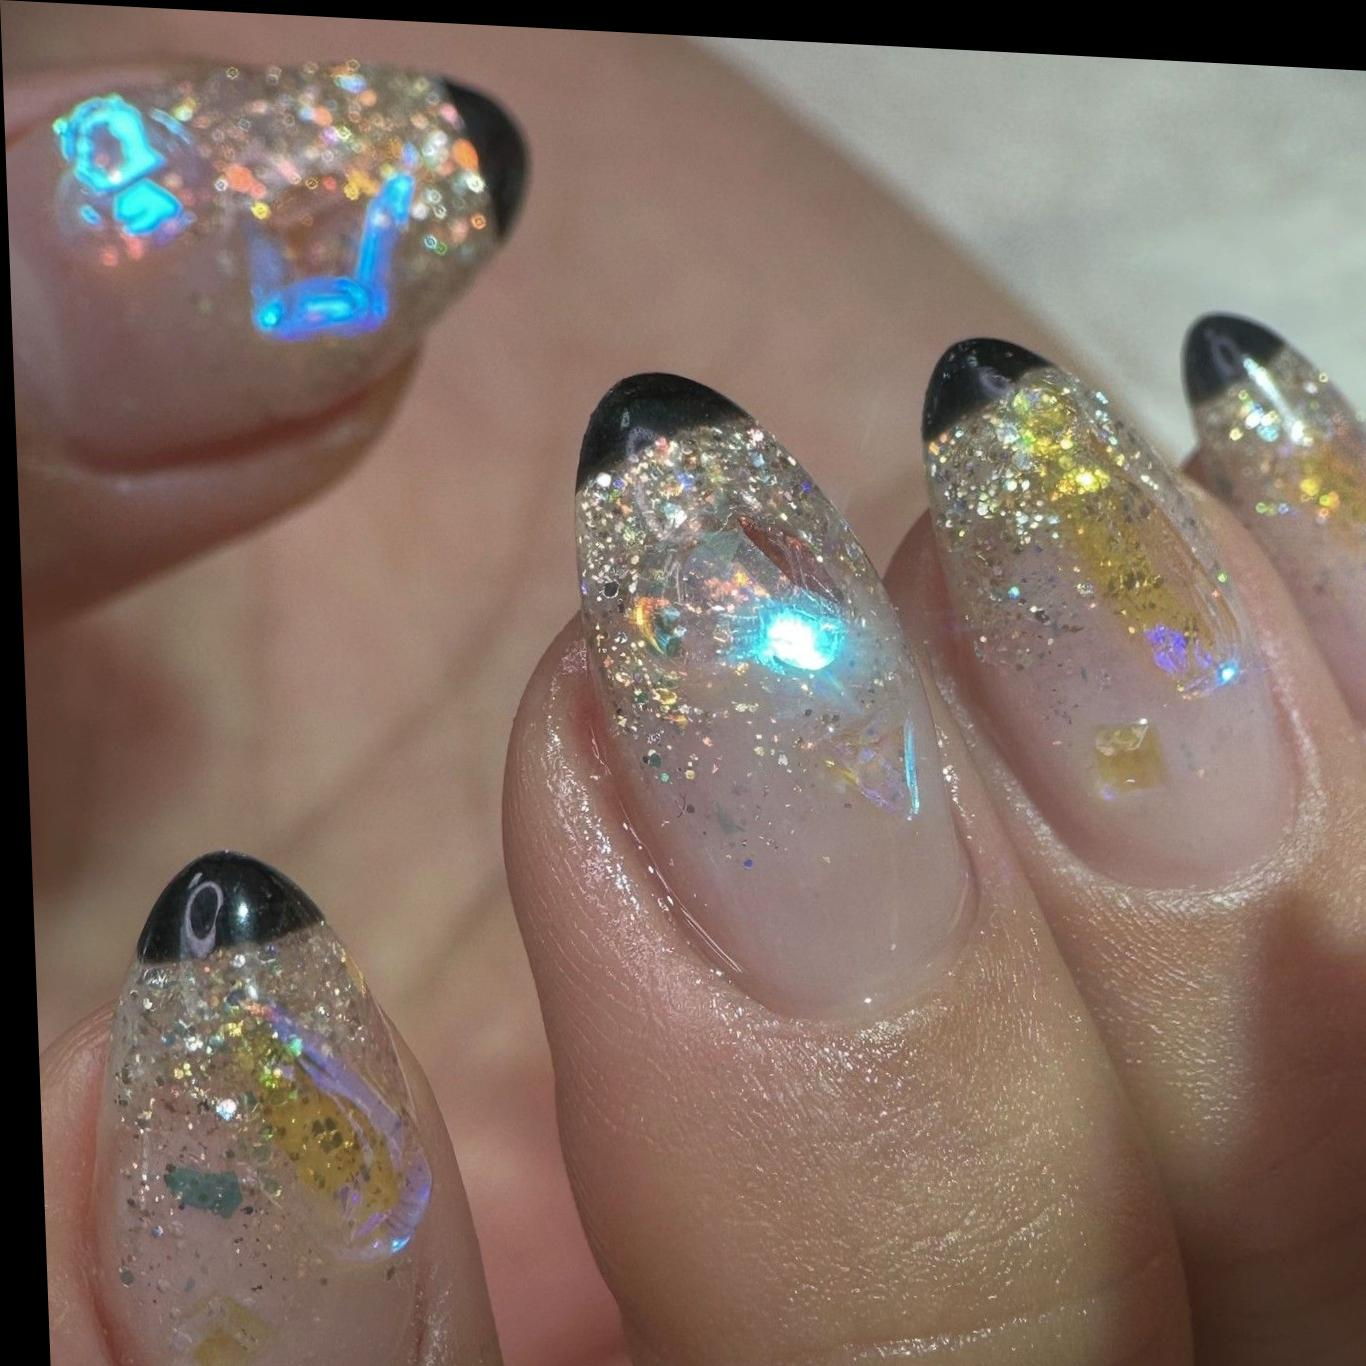nail: (564, 363, 985, 1029), (1, 37, 542, 492), (61, 839, 513, 1366), (914, 330, 1303, 896)
